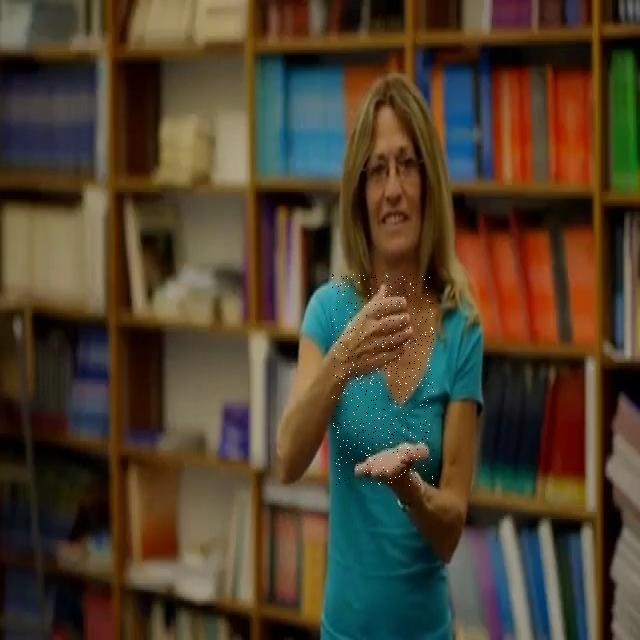cup: (332, 274, 434, 486)
